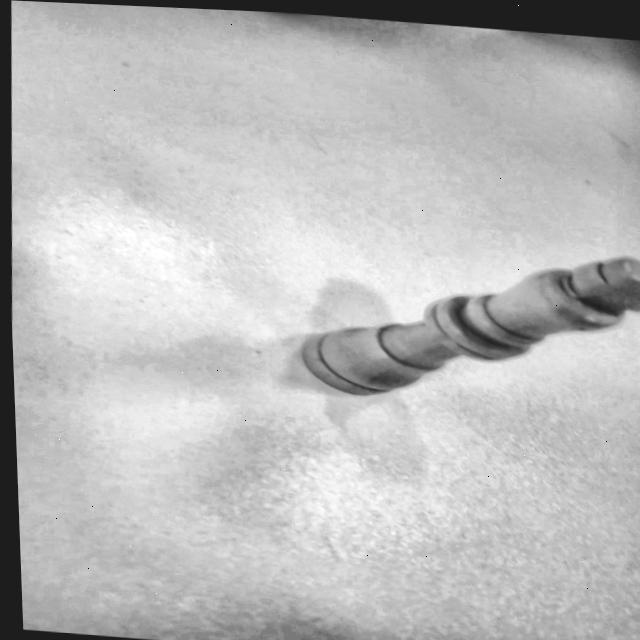white-king: (261, 198, 640, 451)
